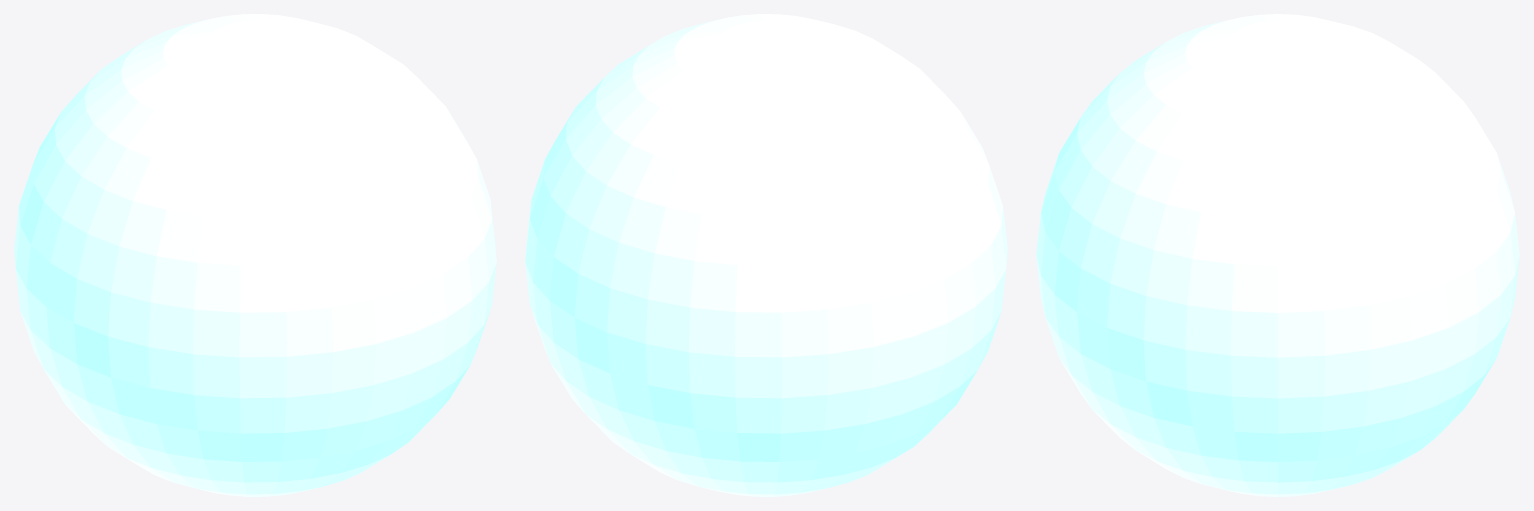
Rendered from hero_shield_generator.fbx.
3 renders of one model, left to right at view 1: azimuth 30°, elevation 25°; view 2: azimuth 150°, elevation 25°; view 3: azimuth 270°, elevation 25°, orthographic.
Parts seen in each view (by area): view 1: Sphere.001; view 2: Sphere.001; view 3: Sphere.001.
Boxes of the visible parts, x1,y1,x2,y2 form: Sphere.001: [14, 14, 496, 496]; Sphere.001: [525, 14, 1007, 496]; Sphere.001: [1036, 14, 1519, 496].
Size of the model in its own units: 800 by 800 by 800.
